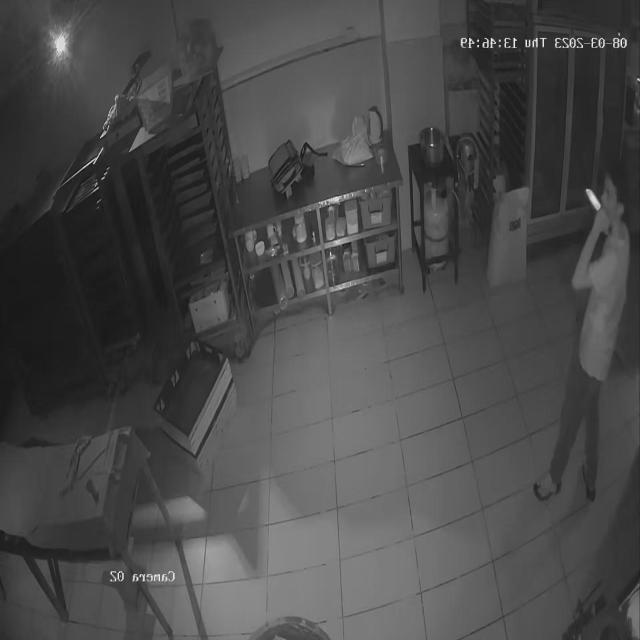Knife: (582, 181, 619, 234)
